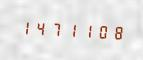eight: (107, 21, 121, 42)
four: (32, 17, 46, 38)
one: (62, 19, 76, 40), (77, 20, 91, 41), (17, 17, 31, 37)
seven: (47, 18, 61, 39)
zero: (92, 21, 106, 41)
